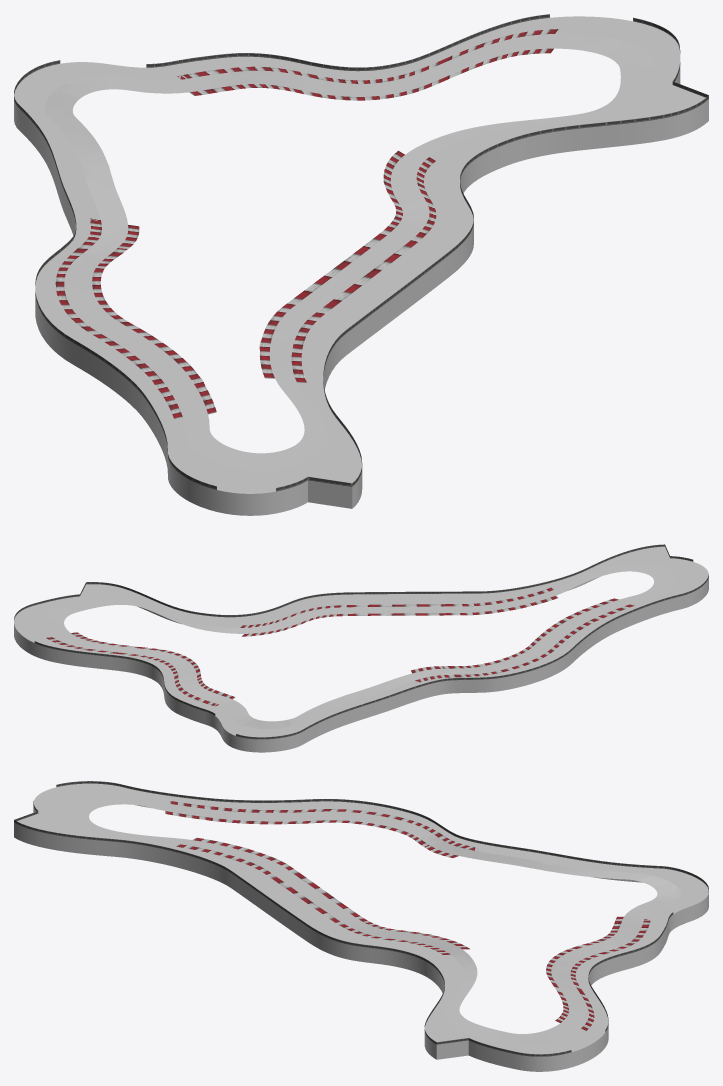
File: Drift track 2.fbx
3 views of the same model, one above another, from view 1: azimuth 30°, elevation 25°; view 2: azimuth 150°, elevation 25°; view 3: azimuth 270°, elevation 25° (orthographic). The views are drawn at different scales.
Visible parts, largest first — view 1: Track_base_grass, Track1, Line, gril; view 2: Track_base_grass, Track1, Line, gril; view 3: Track_base_grass, Track1, Line, gril.
Boxes of the visible parts, <box> form: Track_base_grass: <box>14,16,708,515</box>; Track1: <box>45,33,655,470</box>; Line: <box>55,29,558,419</box>; gril: <box>14,14,708,491</box>; Track_base_grass: <box>14,546,708,752</box>; Track1: <box>41,563,677,729</box>; Line: <box>46,587,635,706</box>; gril: <box>14,544,708,739</box>; Track_base_grass: <box>14,783,708,1071</box>; Track1: <box>62,795,680,1045</box>; Line: <box>165,801,650,1030</box>; gril: <box>14,781,708,1056</box>.
Bounding box in the file's own units: 50600 × 1520 × 54403.
